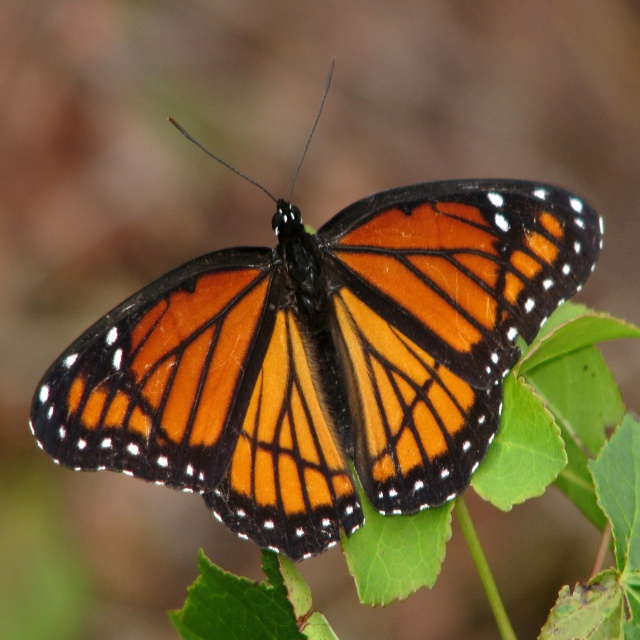Butterfly: (30, 62, 604, 564)
